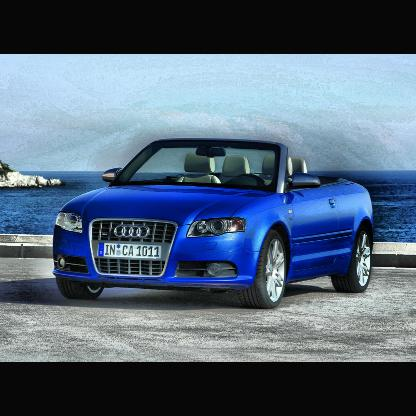Audi RS 4 Convertible 2008: (54, 138, 377, 310)
